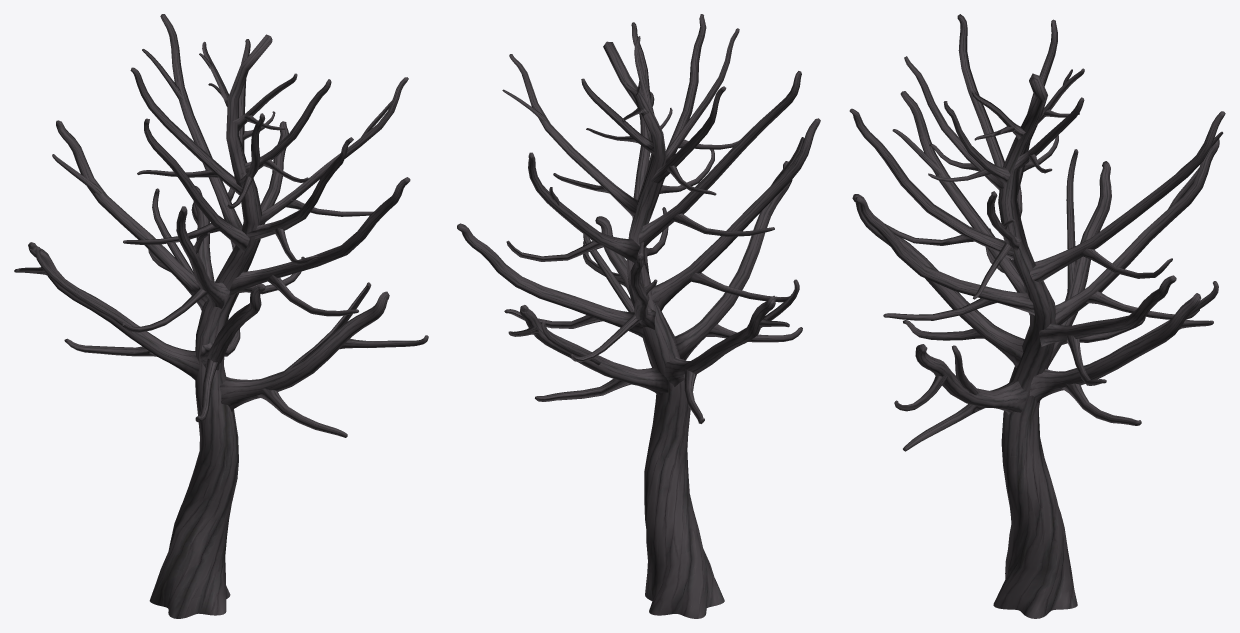
The model's file is dead-tree.glb.
3 views of the same model, side by side, from view 1: azimuth 30°, elevation 25°; view 2: azimuth 150°, elevation 25°; view 3: azimuth 270°, elevation 25° (orthographic). The views are drawn at different scales.
Visible parts, largest first — view 1: tree; view 2: tree; view 3: tree.
Part boxes in pixels (<box>): tree: <box>14,14,428,618</box>; tree: <box>457,14,820,618</box>; tree: <box>849,14,1225,618</box>.
Size of the model in its own units: 6.15 by 9.5 by 5.75.
Materials: 1 (1 with a texture image).
